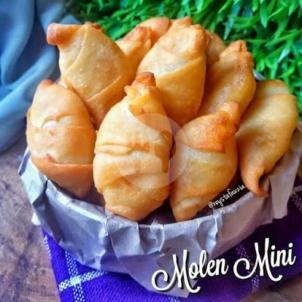pisang_molen: (90, 73, 171, 221), (171, 102, 240, 219), (25, 77, 88, 196)
